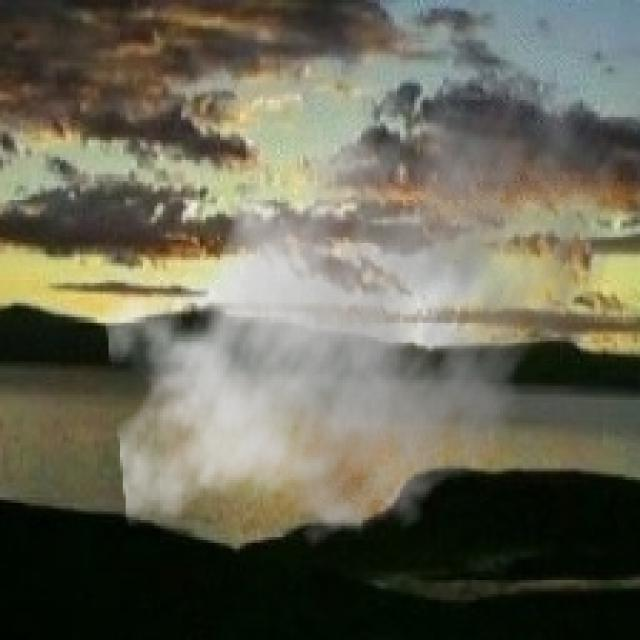Smoke: (102, 34, 628, 563)
